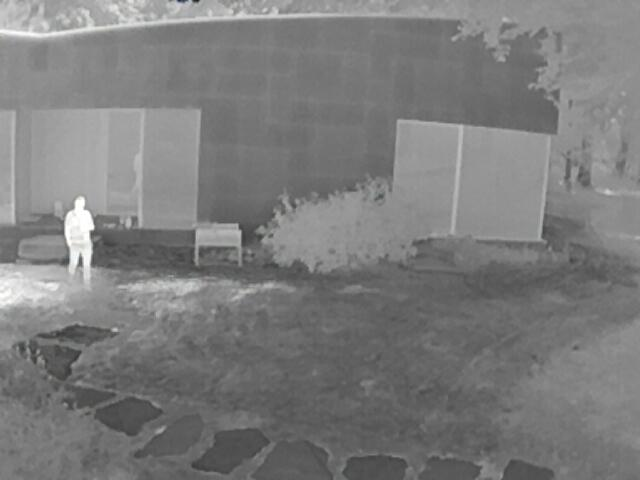person: (65, 195, 94, 293)
